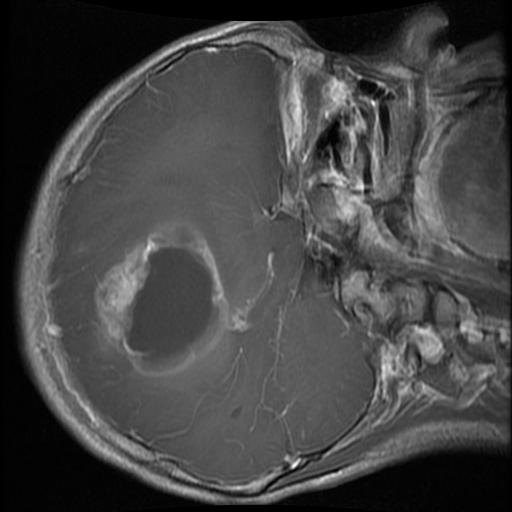glioma: (88, 214, 251, 379)
